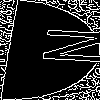N: (25, 25, 100, 66)
